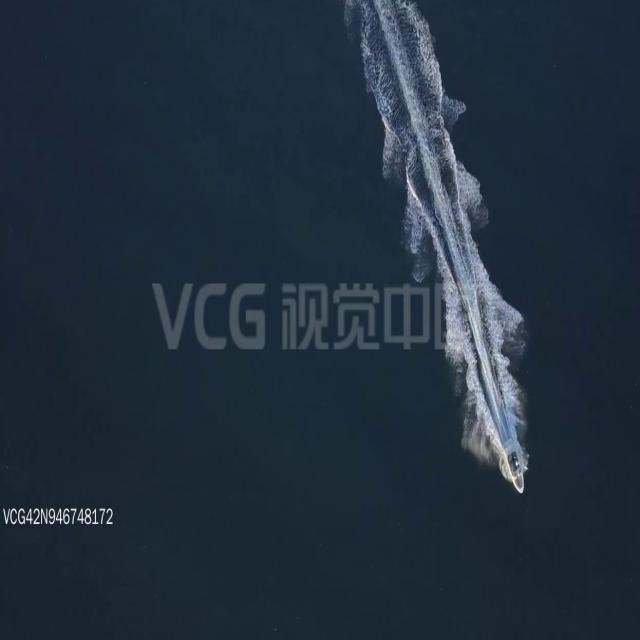houseboat: (501, 432, 524, 493)
